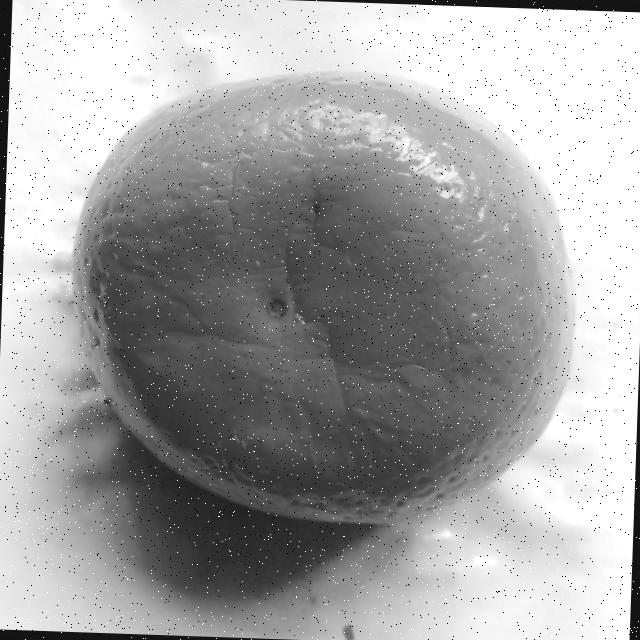Rotten: (60, 59, 582, 526)
